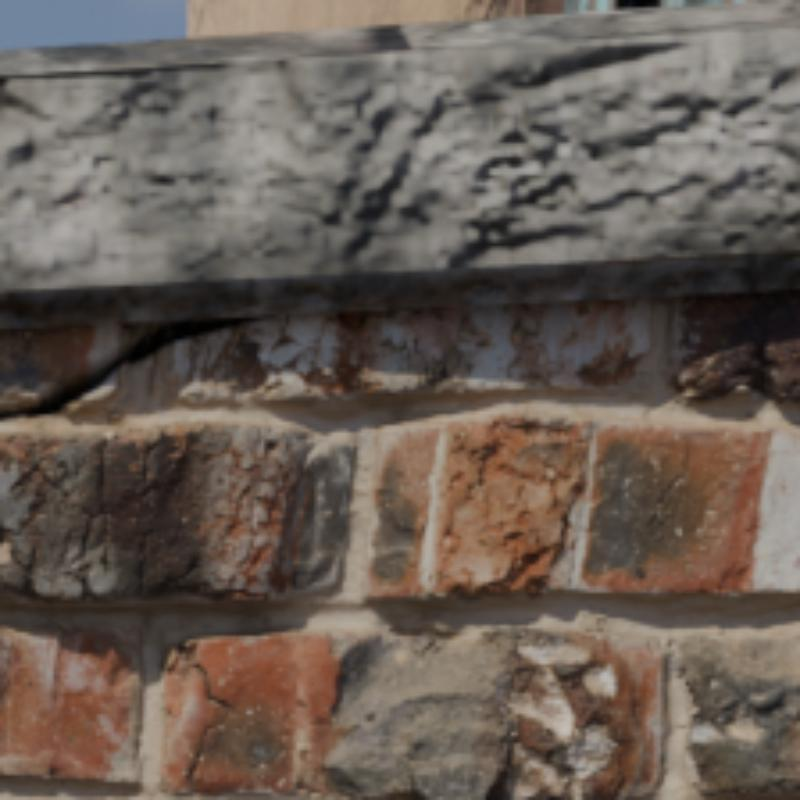crack: (0, 314, 282, 418), (207, 689, 232, 711), (204, 721, 225, 739), (189, 754, 200, 779), (189, 661, 204, 671), (225, 714, 232, 721), (200, 739, 204, 750), (204, 671, 207, 679)
